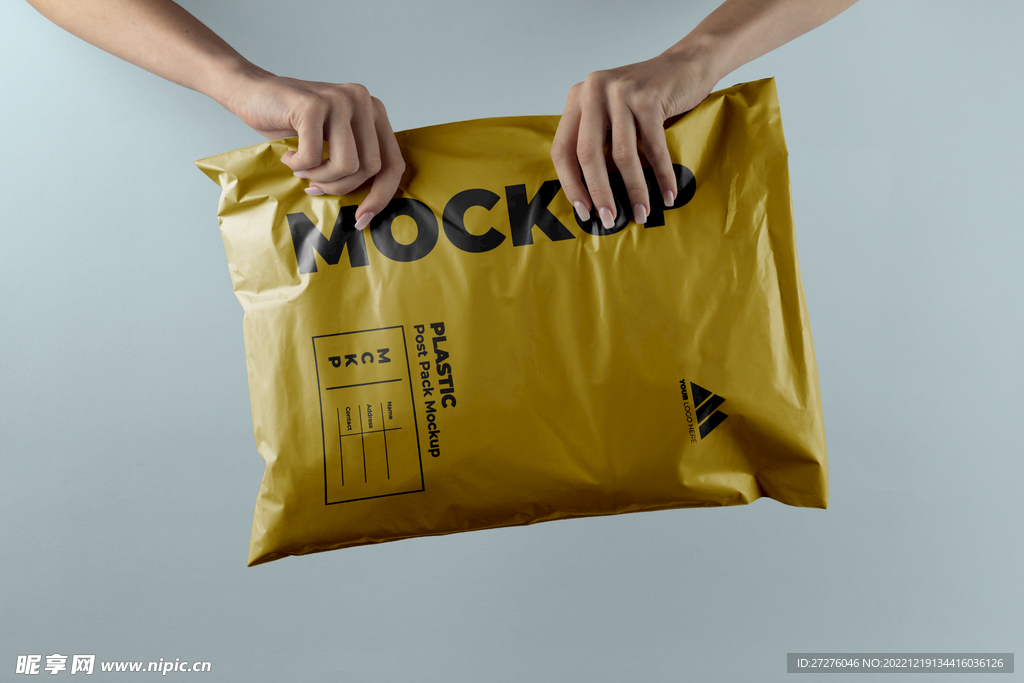Parcel: (195, 78, 834, 579)
